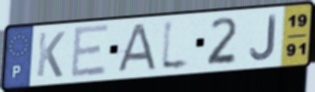2: (205, 15, 239, 68)
A: (112, 22, 159, 74)
E: (69, 23, 112, 81)
J: (248, 13, 278, 62)
K: (34, 30, 67, 79)
L: (158, 16, 194, 74)
